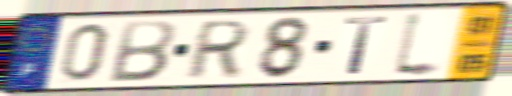0: (59, 20, 113, 85)
8: (257, 15, 312, 81)
B: (105, 18, 178, 84)
L: (388, 8, 445, 81)
R: (182, 18, 253, 81)
T: (342, 15, 391, 77)
